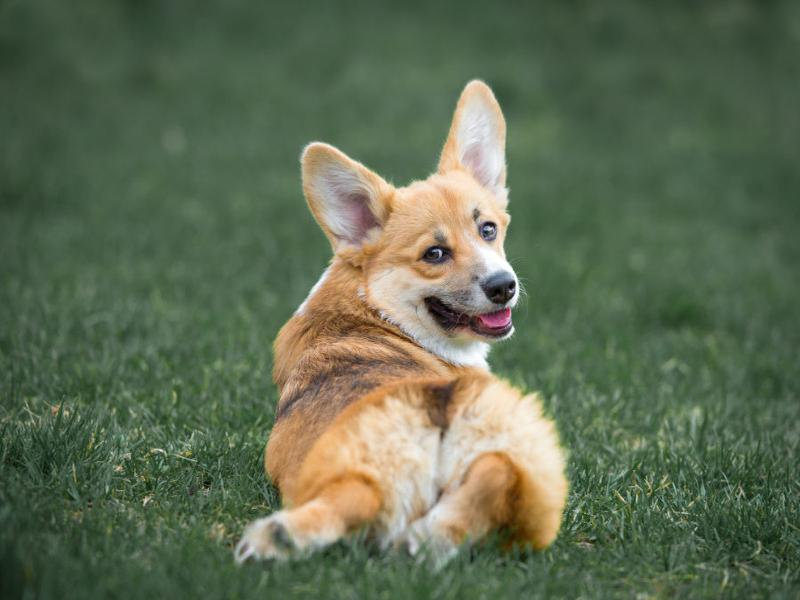corgi: (299, 76, 525, 345)
